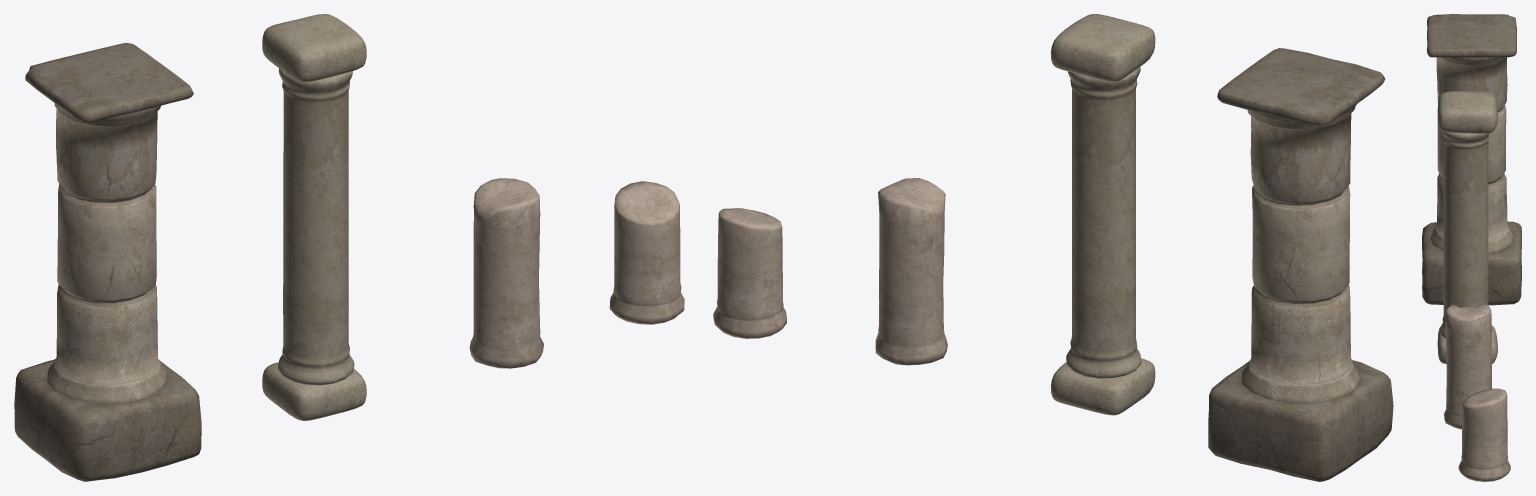
The model's file is ancient_pillars.glb.
3 views of the same model, side by side, from view 1: azimuth 30°, elevation 25°; view 2: azimuth 150°, elevation 25°; view 3: azimuth 270°, elevation 25° (orthographic). The views are drawn at different scales.
Parts seen in each view (by area): view 1: pillar1_002_0, Pillar2_003_1, BrokenPillar_001_2, BrokenPillar_002_3; view 2: pillar1_002_0, Pillar2_003_1, BrokenPillar_001_2, BrokenPillar_002_3; view 3: pillar1_002_0, Pillar2_003_1, BrokenPillar_001_2, BrokenPillar_002_3.
Boxes of the visible parts, bbox=[...] form: pillar1_002_0: bbox=[14, 43, 201, 481]; Pillar2_003_1: bbox=[262, 14, 366, 420]; BrokenPillar_001_2: bbox=[469, 178, 543, 368]; BrokenPillar_002_3: bbox=[609, 181, 684, 324]; pillar1_002_0: bbox=[1208, 48, 1393, 481]; Pillar2_003_1: bbox=[1050, 14, 1155, 415]; BrokenPillar_001_2: bbox=[875, 178, 947, 365]; BrokenPillar_002_3: bbox=[713, 208, 786, 338]; pillar1_002_0: bbox=[1422, 14, 1521, 305]; Pillar2_003_1: bbox=[1437, 91, 1497, 363]; BrokenPillar_001_2: bbox=[1444, 304, 1491, 429]; BrokenPillar_002_3: bbox=[1458, 388, 1510, 481].
Bounding box in the file's own units: 11.42 × 6.38 × 2.23.
Materials: 3 (3 with a texture image).
